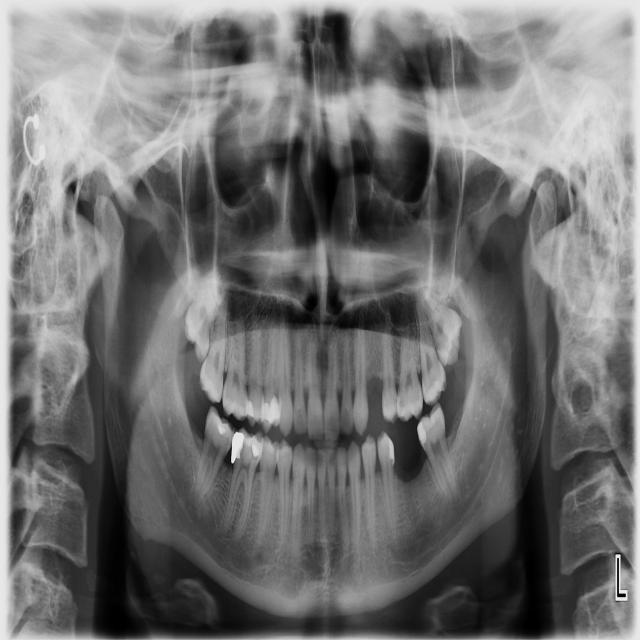mandibula: (93, 171, 556, 615)
